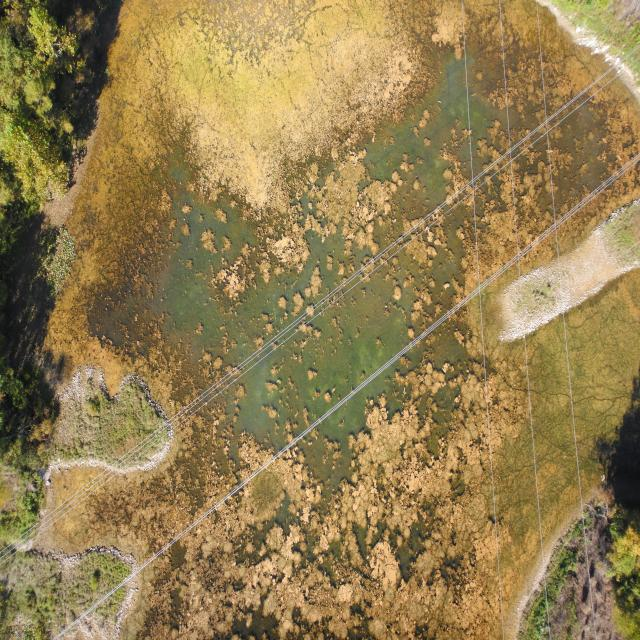Area of Interest: (7, 14, 63, 219)
